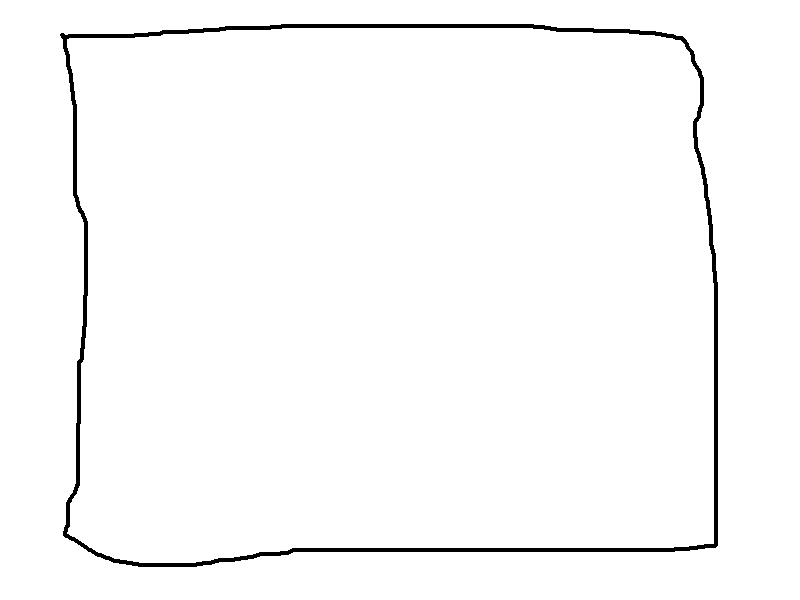rect: (59, 17, 722, 572)
